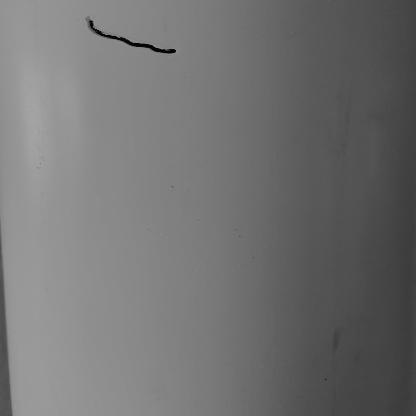fengxi: (85, 17, 177, 54)
